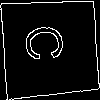C: (25, 22, 73, 62)
